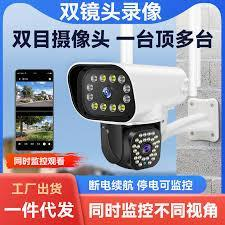tutu: (67, 55, 189, 126)
